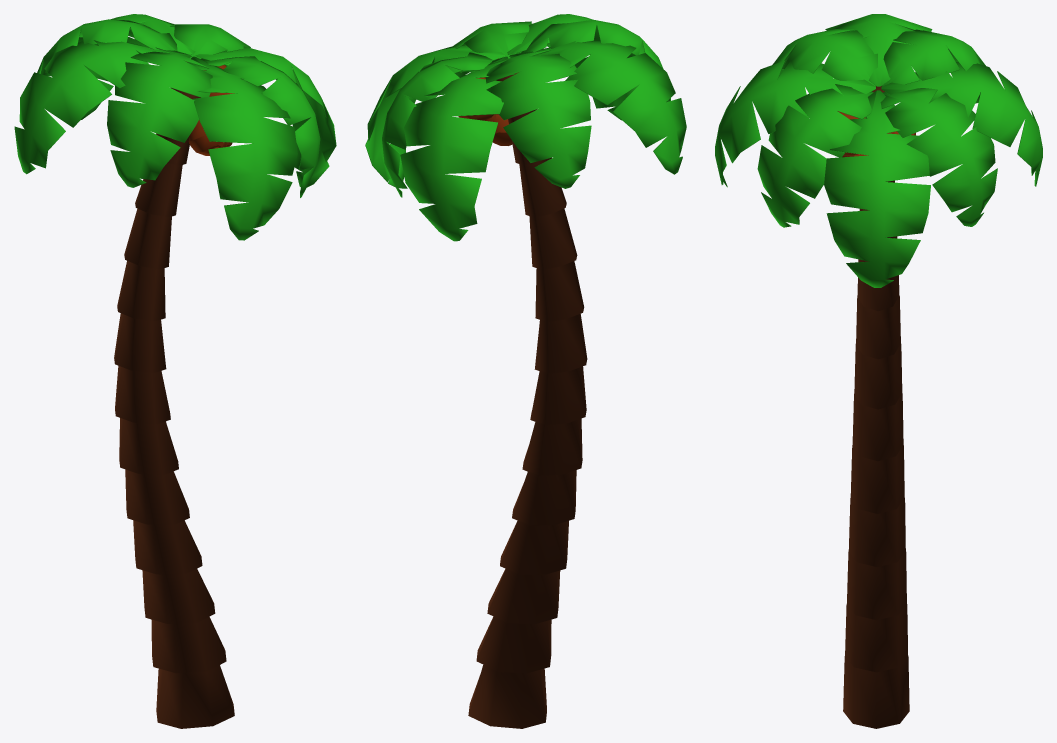
Rendered from coqueiro.fbx.
The picture shows the model from 3 angles, left to right: view 1: azimuth 30°, elevation 25°; view 2: azimuth 150°, elevation 25°; view 3: azimuth 270°, elevation 25°; orthographic projection. The views are drawn at different scales.
Visible parts, largest first — view 1: Sphere; view 2: Sphere; view 3: Sphere.
Part boxes in pixels (x1=…): Sphere: x1=14, y1=14, x2=336, y2=728; Sphere: x1=365, y1=14, x2=686, y2=728; Sphere: x1=715, y1=14, x2=1042, y2=728.
Size of the model in its own units: 977 by 2154 by 986.
Materials: 2 (2 with a texture image).
